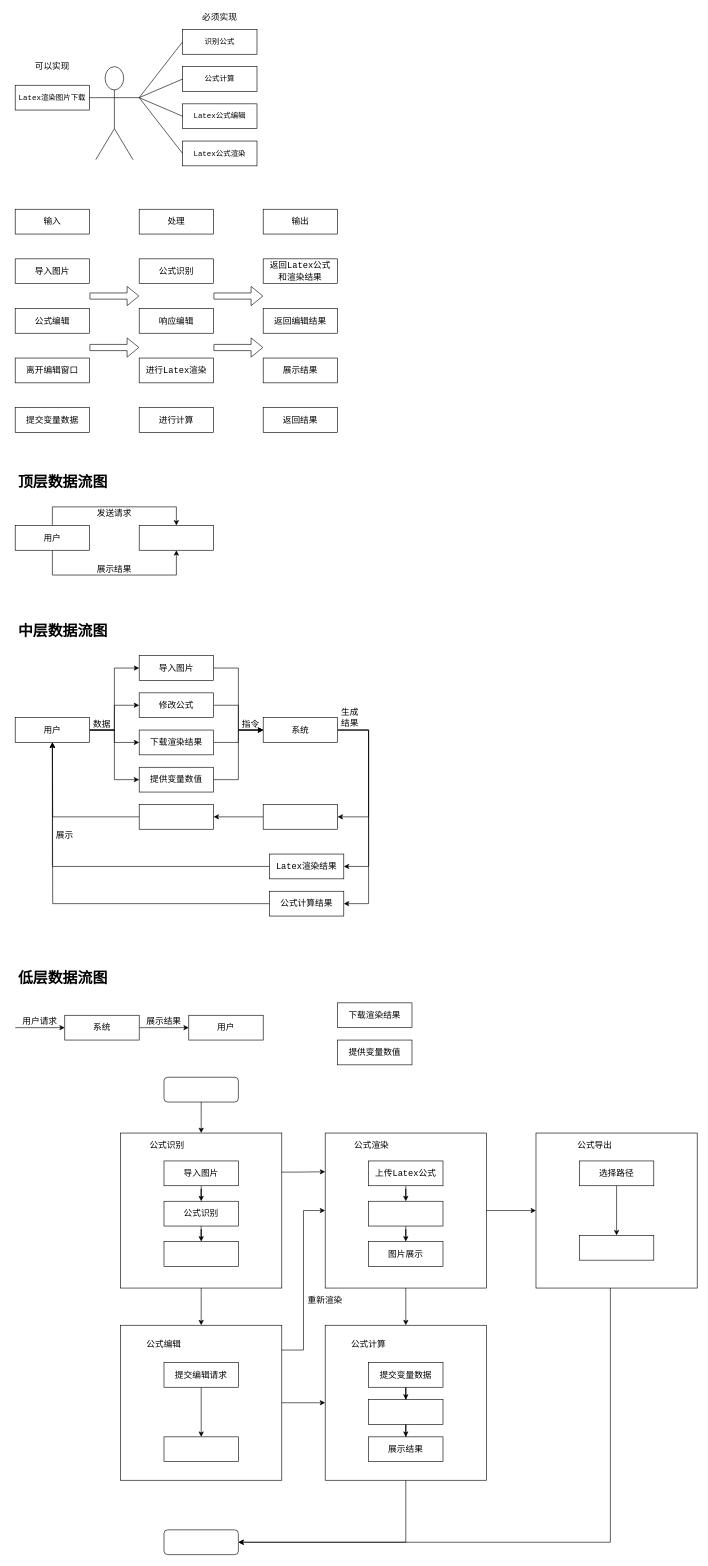
Image size: 708x1566. Some labels were removed from this diagram. Each missing label, with the centre of its shape:
"Latex 公式" belongs at pixel 300 816.
"User" belongs at pixel 114 113.
"保存" belongs at pixel 616 1247.
"公式识别计算系统" belongs at pixel 176 537.
"开始" belongs at pixel 200 1089.
"改变文本" belongs at pixel 200 1449.
"文本框" belongs at pixel 176 816.
"结束" belongs at pixel 200 1542.
"计算" belongs at pixel 405 1411.
"返回 json 数据" belongs at pixel 200 1253.
"返回 svg 数据" belongs at pixel 405 1213.
